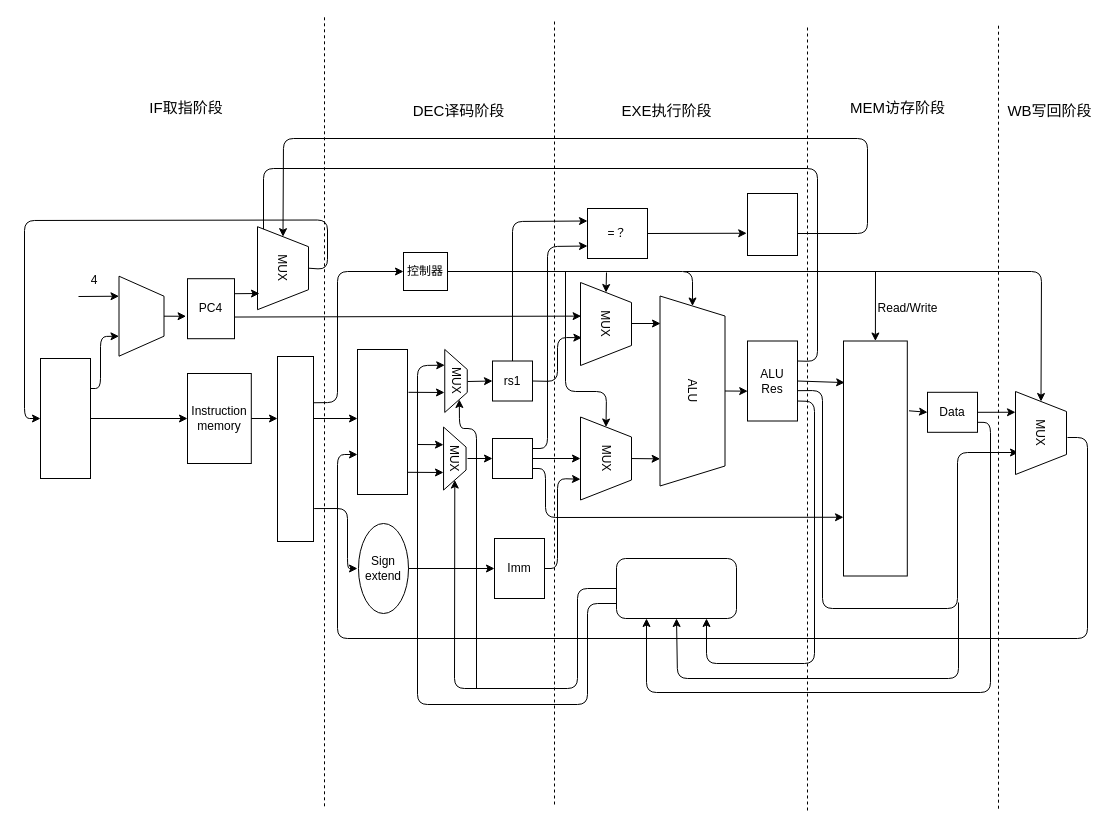
Some shapes in this 1118 by 832 pixel diagram are drawn without their labels. Each missing label, with the centre of its shape:
"ADD" belongs at pixel 141 315.
"cond" belongs at pixel 772 224.
"Data memory" belongs at pixel 874 458.
"Forwading" belongs at pixel 676 588.
"inst" belongs at pixel 295 449.
"PC" belongs at pixel 65 418.
"registers file" belongs at pixel 382 421.
"rs2" belongs at pixel 512 458.
